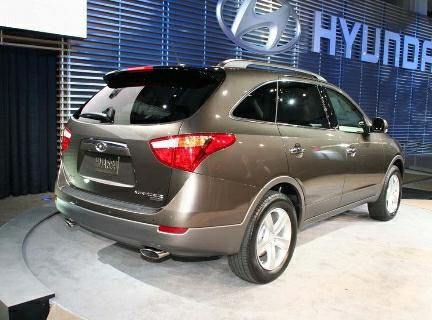car: (28, 56, 410, 288)
